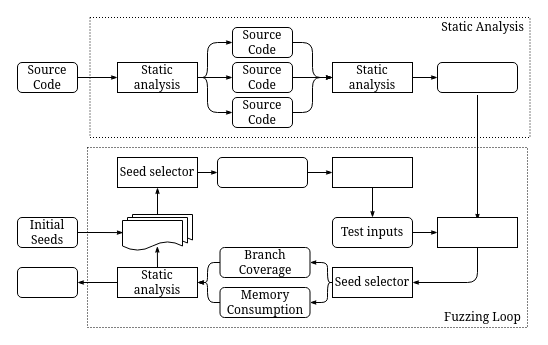
This 548x345 diagram has some shape labels left out. Here are the shapes that lost their labels. From the top down, the centre of each, then its label:
(477,77): Instrumented Program
(262,172): Selected Seeds
(372,172): Seed Mutator
(152,235): Seed Pool
(477,232): Executor
(47,282): Proof of crashes
